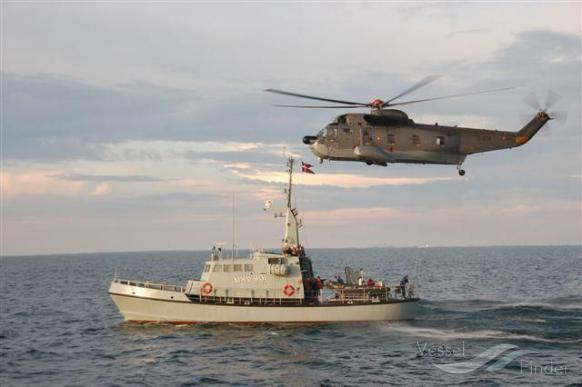OCR: (232, 274, 272, 285)
